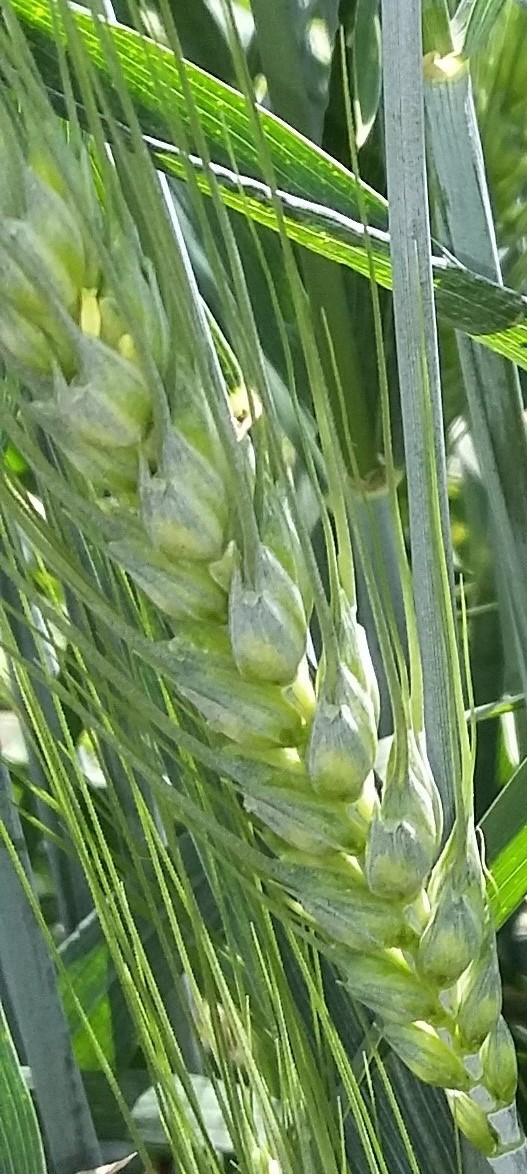Healthy Wheat: (21, 189, 521, 1098)
